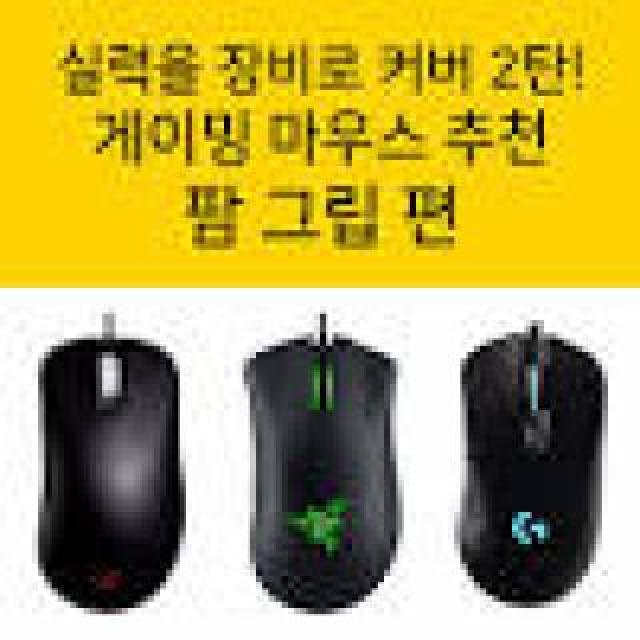mouse: (210, 307, 422, 603), (450, 280, 615, 640), (43, 310, 190, 613)
